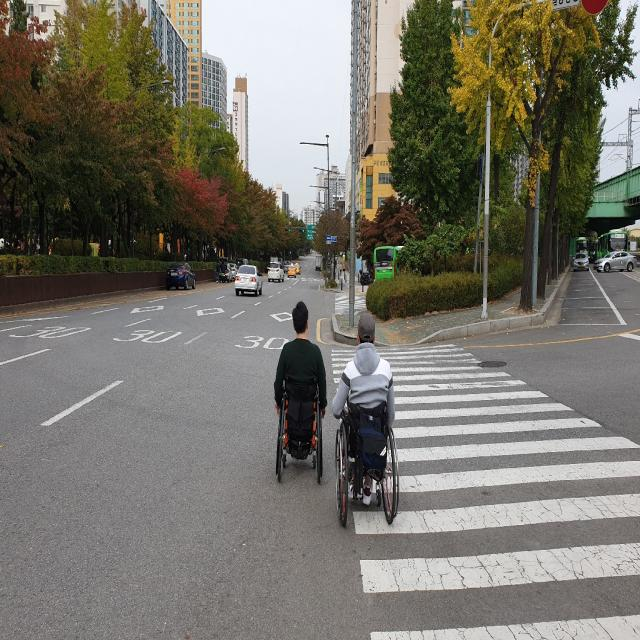횡단보도: (331, 342, 639, 640)
